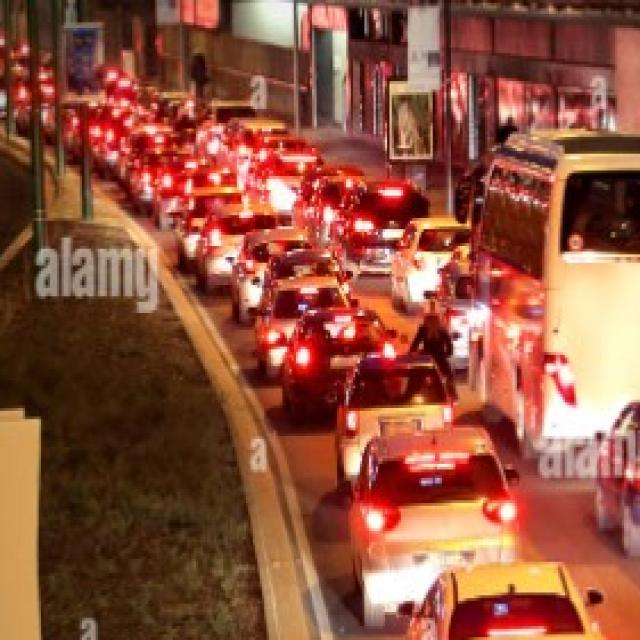bus: (467, 126, 640, 458)
car: (348, 421, 521, 624), (390, 559, 620, 640), (339, 345, 454, 484), (281, 307, 401, 421), (337, 181, 427, 272), (592, 394, 640, 553), (391, 218, 470, 306)
